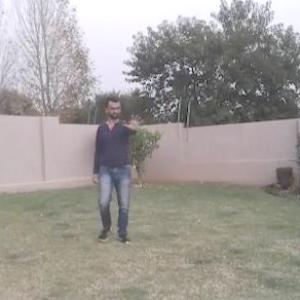follow_hand: (124, 109, 146, 132)
